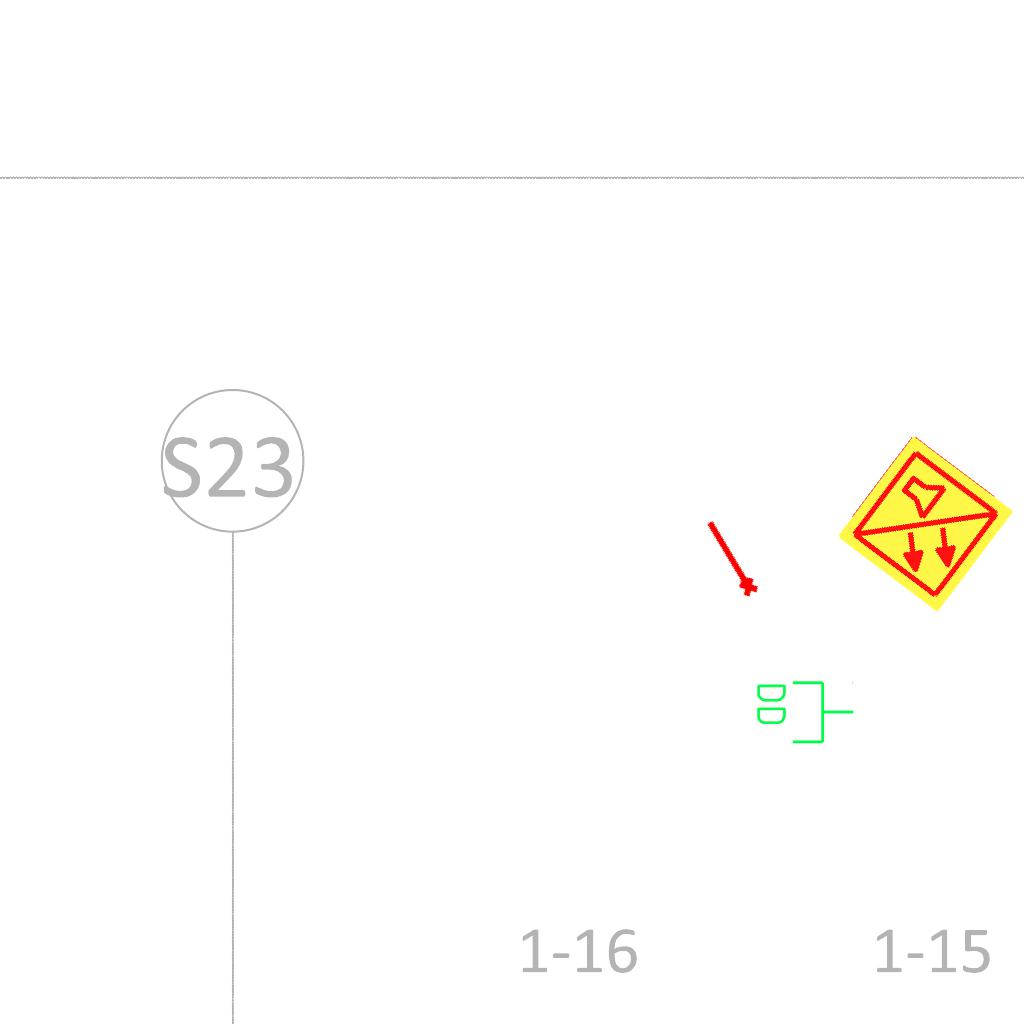ASR_Ansaugoeffnung: (697, 514, 763, 603)
Datenanschluss_zweifach: (753, 677, 856, 746)
OKW_Multisensormelder_(Kombination_optischer_Rauch-Kahlenmonoxid_Waerme-Melder): (832, 431, 1018, 617)
